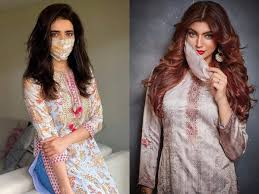mask_weared_incorrect: (188, 27, 212, 60)
with_mask: (52, 25, 74, 50)
